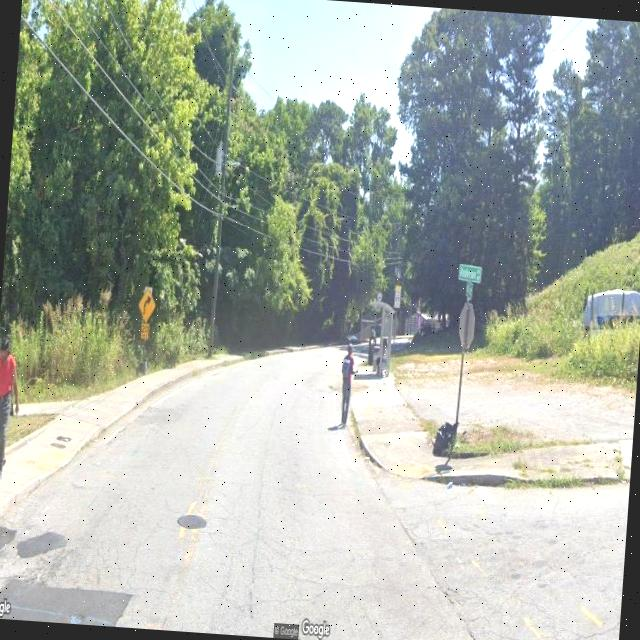seating: (378, 360, 388, 376)
shelter: (364, 300, 396, 378)
trash_can: (366, 336, 376, 364)
